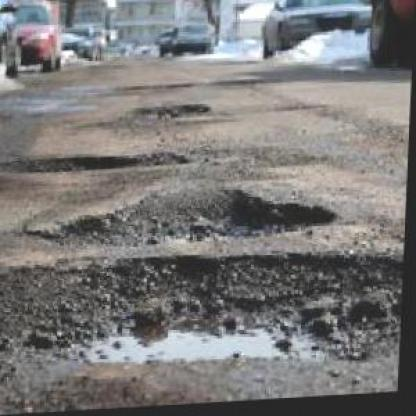pothole: (21, 182, 341, 255), (0, 144, 197, 178), (125, 101, 212, 126)
